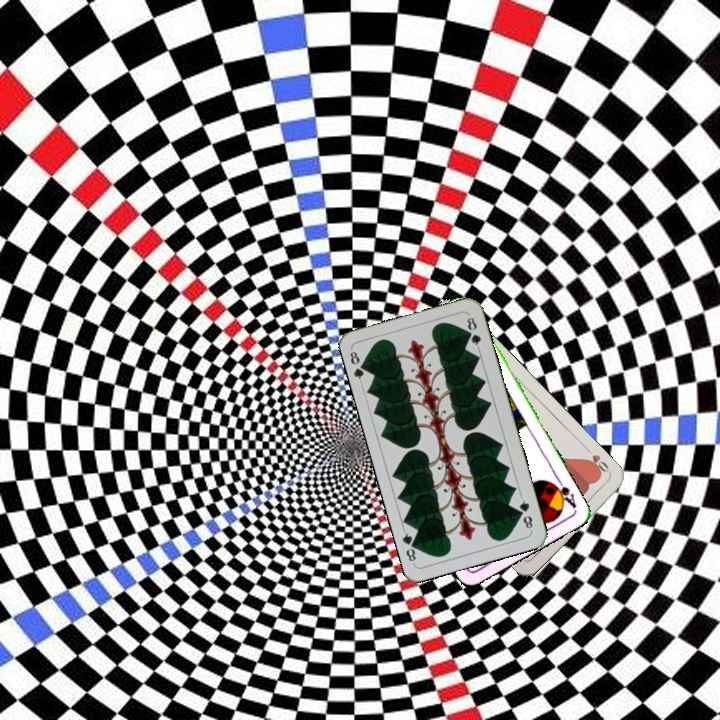G8: (345, 346, 370, 386), (515, 493, 535, 533)
HO: (581, 444, 614, 478)
SA: (547, 474, 579, 511)
